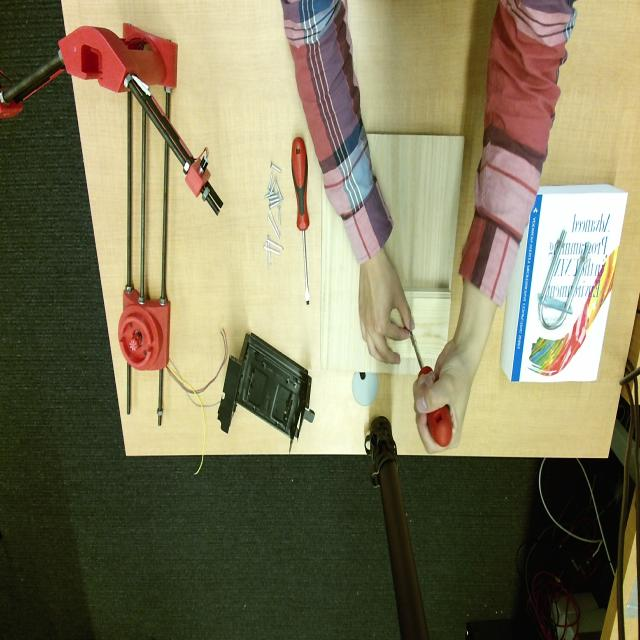screwdriver: (291, 138, 310, 304), (426, 404, 452, 447), (410, 331, 432, 374)
